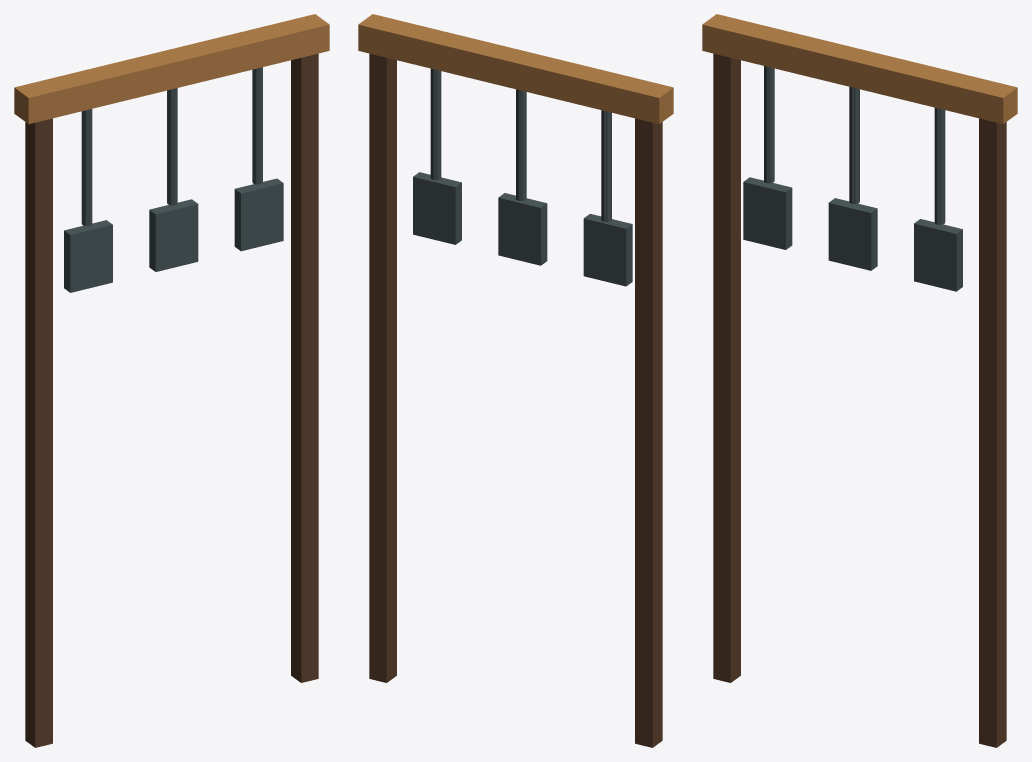
The model's file is reused_utensil_rack.glb.
3 views of the same model, side by side, from view 1: azimuth 30°, elevation 25°; view 2: azimuth 150°, elevation 25°; view 3: azimuth 330°, elevation 25° (orthographic).
Visible parts, largest first — view 1: reused_utensil_rack_Farm_wood_dark.001, reused_utensil_rack_Farm_metal.001, reused_utensil_rack_Farm_wood2.002; view 2: reused_utensil_rack_Farm_wood_dark.001, reused_utensil_rack_Farm_metal.001, reused_utensil_rack_Farm_wood2.002; view 3: reused_utensil_rack_Farm_wood_dark.001, reused_utensil_rack_Farm_metal.001, reused_utensil_rack_Farm_wood2.002.
Part boxes in pixels (left/top/right/bottom): reused_utensil_rack_Farm_wood_dark.001: left=25, top=53, right=318, bottom=747; reused_utensil_rack_Farm_metal.001: left=64, top=67, right=283, bottom=292; reused_utensil_rack_Farm_wood2.002: left=14, top=14, right=329, bottom=123; reused_utensil_rack_Farm_wood_dark.001: left=369, top=53, right=662, bottom=747; reused_utensil_rack_Farm_metal.001: left=413, top=68, right=632, bottom=286; reused_utensil_rack_Farm_wood2.002: left=358, top=14, right=673, bottom=123; reused_utensil_rack_Farm_wood_dark.001: left=713, top=53, right=1006, bottom=747; reused_utensil_rack_Farm_metal.001: left=743, top=66, right=962, bottom=291; reused_utensil_rack_Farm_wood2.002: left=702, top=14, right=1017, bottom=123.
Bounding box in the file's own units: 1.2 × 2.49 × 0.1025.
